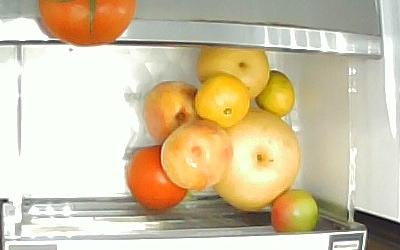peach: (160, 119, 234, 191), (144, 80, 204, 146)
pear: (210, 107, 300, 211), (194, 45, 270, 100)
tangerine: (193, 72, 250, 128), (253, 68, 295, 116)
tomato: (125, 144, 188, 211), (270, 188, 318, 232)
